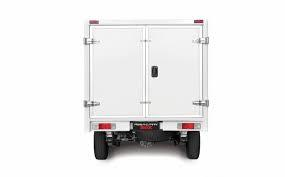truck: (81, 13, 213, 140)
